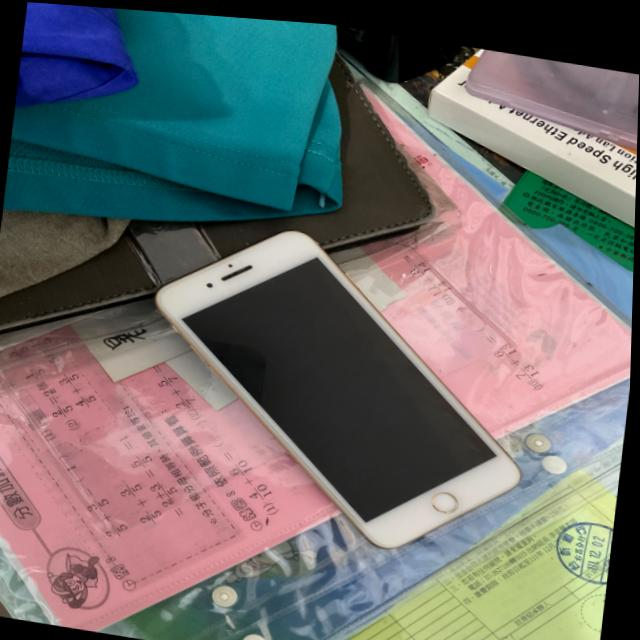Smartphone: (157, 226, 523, 542)
